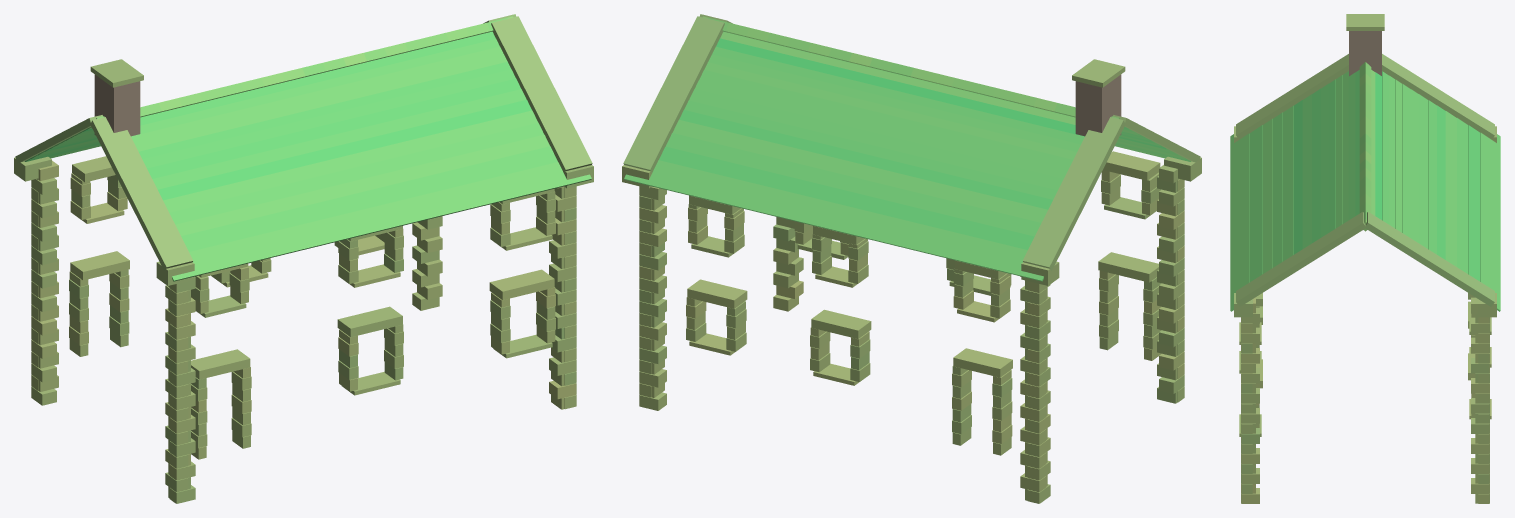
Rendered from SM_Bld_159_Stone.glb.
The picture shows the model from 3 angles, left to right: view 1: azimuth 30°, elevation 25°; view 2: azimuth 150°, elevation 25°; view 3: azimuth 270°, elevation 25°; orthographic projection. The views are drawn at different scales.
Parts seen in each view (by area): view 1: SM_Bld_159_Stone; view 2: SM_Bld_159_Stone; view 3: SM_Bld_159_Stone.
Part boxes in pixels (bbox=[...]): SM_Bld_159_Stone: bbox=[14, 14, 593, 503]; SM_Bld_159_Stone: bbox=[622, 14, 1201, 503]; SM_Bld_159_Stone: bbox=[1230, 14, 1500, 503].
Size of the model in its own units: 11.42 by 9.64 by 7.33.
